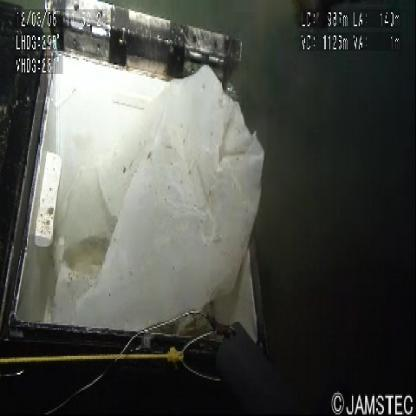Rác: (32, 49, 275, 330)
